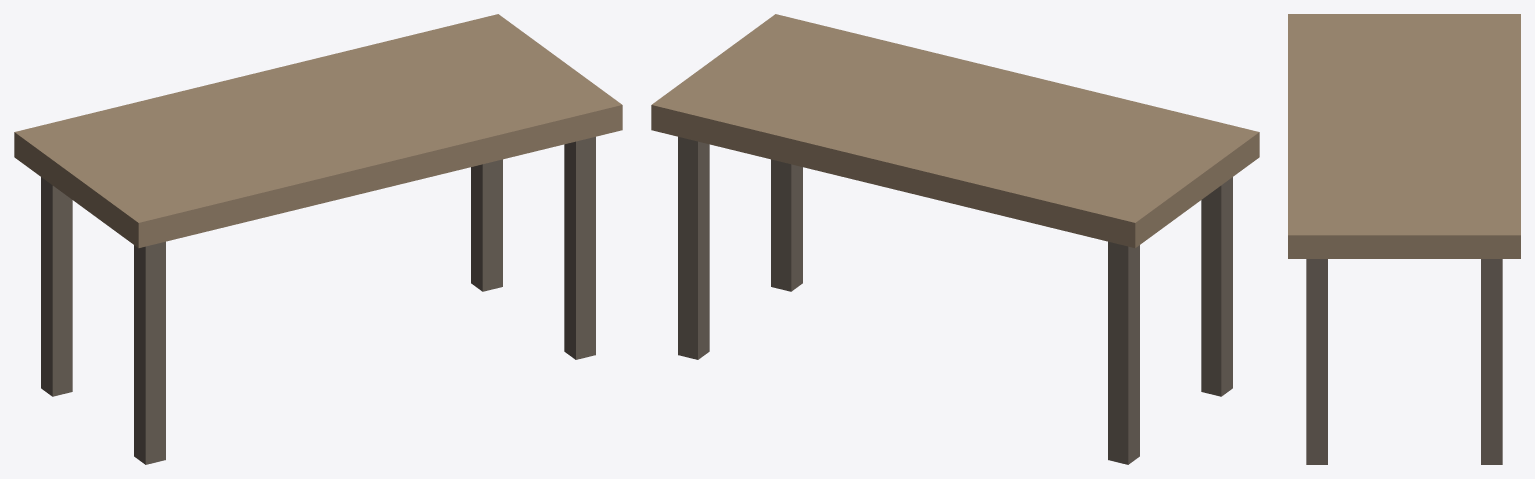
Rendered from worktable_large.glb.
3 renders of one model, left to right at view 1: azimuth 30°, elevation 25°; view 2: azimuth 150°, elevation 25°; view 3: azimuth 270°, elevation 25°, orthographic. The views are drawn at different scales.
Visible parts, largest first — view 1: body; view 2: body; view 3: body.
Part boxes in pixels (box(x1,y1,x2,y2)): body: box(14, 14, 622, 464); body: box(651, 14, 1259, 464); body: box(1288, 14, 1520, 464).
Size of the model in its own units: 1.8 by 0.9 by 0.8.
